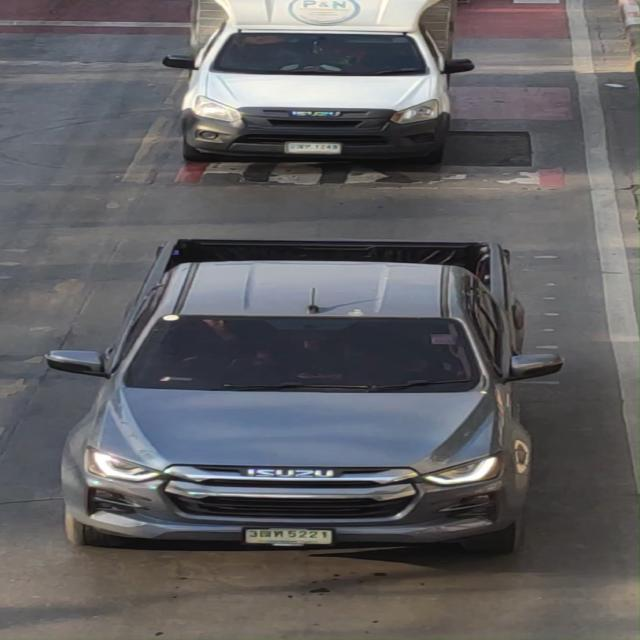car: (22, 230, 582, 584), (159, 0, 480, 168)
